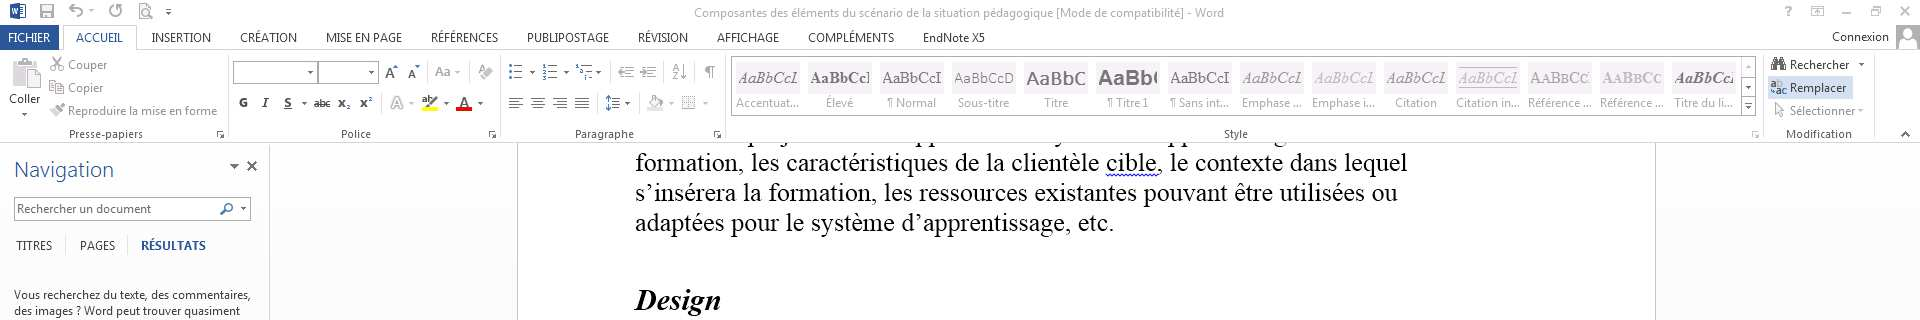texte: (920, 179, 1027, 219), (902, 213, 1070, 237), (787, 153, 947, 177), (634, 289, 720, 316), (636, 153, 743, 174), (769, 183, 876, 204), (636, 213, 724, 237), (16, 161, 113, 181), (1168, 130, 1283, 147), (812, 213, 894, 237), (1144, 185, 1227, 207), (636, 183, 735, 201), (1035, 185, 1136, 201), (1280, 183, 1364, 201), (1011, 153, 1100, 170), (1344, 153, 1407, 177), (1196, 154, 1283, 170), (18, 204, 151, 213), (714, 131, 787, 147), (1107, 153, 1162, 174), (44, 291, 147, 302), (338, 115, 370, 150), (309, 66, 394, 78), (1771, 81, 1847, 94), (173, 291, 250, 302), (1100, 70, 1157, 85), (731, 219, 779, 237), (1291, 153, 1337, 170), (1027, 71, 1085, 85), (809, 33, 894, 42), (70, 130, 142, 140), (528, 33, 609, 42), (10, 94, 40, 116), (1236, 183, 1272, 201), (327, 33, 402, 42), (1172, 72, 1229, 83), (812, 72, 869, 83), (884, 72, 940, 83), (1791, 105, 1854, 115), (1678, 72, 1733, 83), (742, 72, 797, 83), (185, 307, 240, 318), (1391, 72, 1445, 83), (313, 99, 372, 109), (576, 130, 633, 140), (432, 33, 497, 42), (1787, 130, 1851, 139), (142, 242, 204, 250), (153, 277, 169, 310), (718, 33, 779, 42), (144, 108, 216, 115), (924, 33, 984, 42), (152, 33, 211, 42), (1079, 216, 1113, 230), (885, 183, 912, 201), (1791, 60, 1849, 69), (1833, 32, 1888, 40), (241, 33, 296, 42), (752, 153, 779, 170), (220, 197, 246, 215), (1771, 49, 1785, 78), (1773, 85, 1785, 119), (973, 21, 987, 51), (639, 33, 687, 42), (76, 33, 122, 42), (956, 153, 980, 170), (69, 63, 105, 72), (262, 98, 291, 109), (987, 153, 1005, 170), (1371, 189, 1397, 201), (786, 213, 804, 230), (16, 242, 51, 250), (120, 291, 147, 302), (1171, 153, 1188, 170), (81, 242, 115, 250), (77, 307, 111, 315), (146, 307, 180, 315), (744, 183, 760, 201), (107, 277, 115, 310), (231, 161, 257, 170), (118, 307, 140, 318), (13, 291, 39, 299), (991, 74, 1013, 83), (50, 309, 72, 318), (89, 109, 131, 113), (955, 74, 970, 83), (409, 65, 419, 78), (915, 143, 936, 147), (240, 98, 247, 107), (1551, 72, 1566, 76), (217, 131, 224, 139), (489, 131, 496, 139), (213, 219, 239, 221), (1056, 142, 1060, 147), (1859, 63, 1864, 66), (1746, 86, 1751, 90), (1746, 105, 1751, 109), (302, 102, 306, 105), (659, 67, 660, 77), (152, 238, 154, 240), (629, 70, 633, 71), (1558, 78, 1559, 81), (682, 77, 684, 78)
